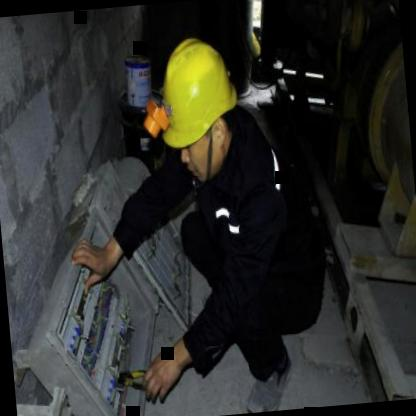helmet: (149, 27, 249, 186)
